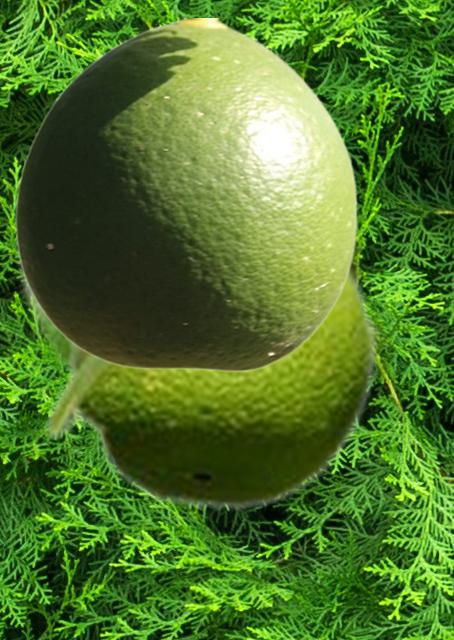dalandan: (14, 18, 357, 371), (41, 263, 379, 512), (13, 165, 387, 374)
